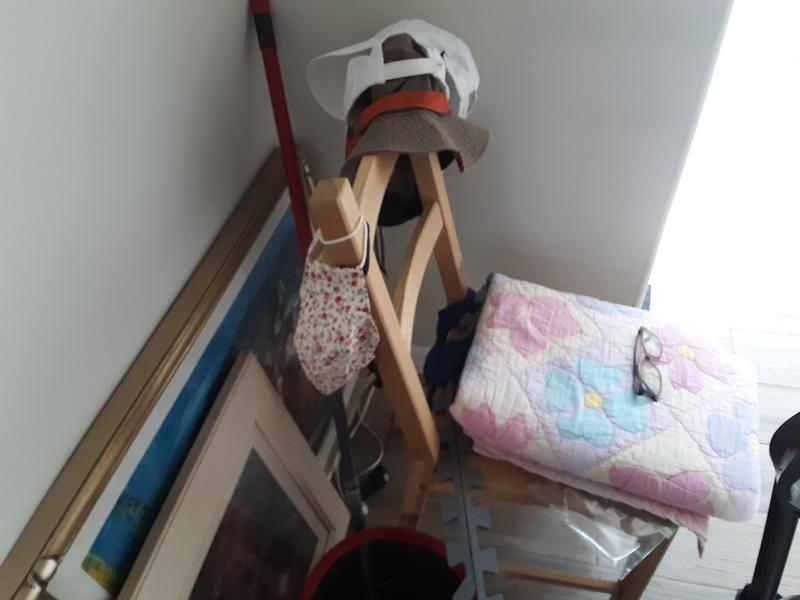glasses: (630, 326, 665, 407)
